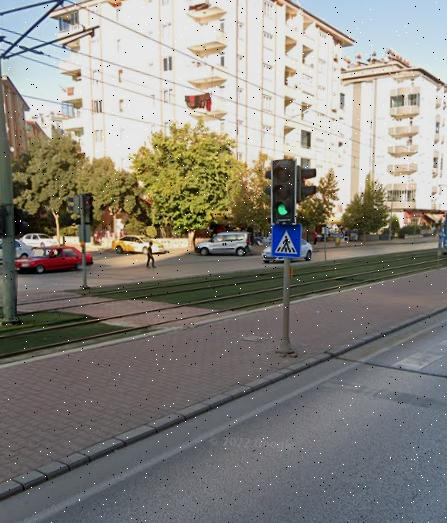greenlight: (273, 162, 294, 223)
